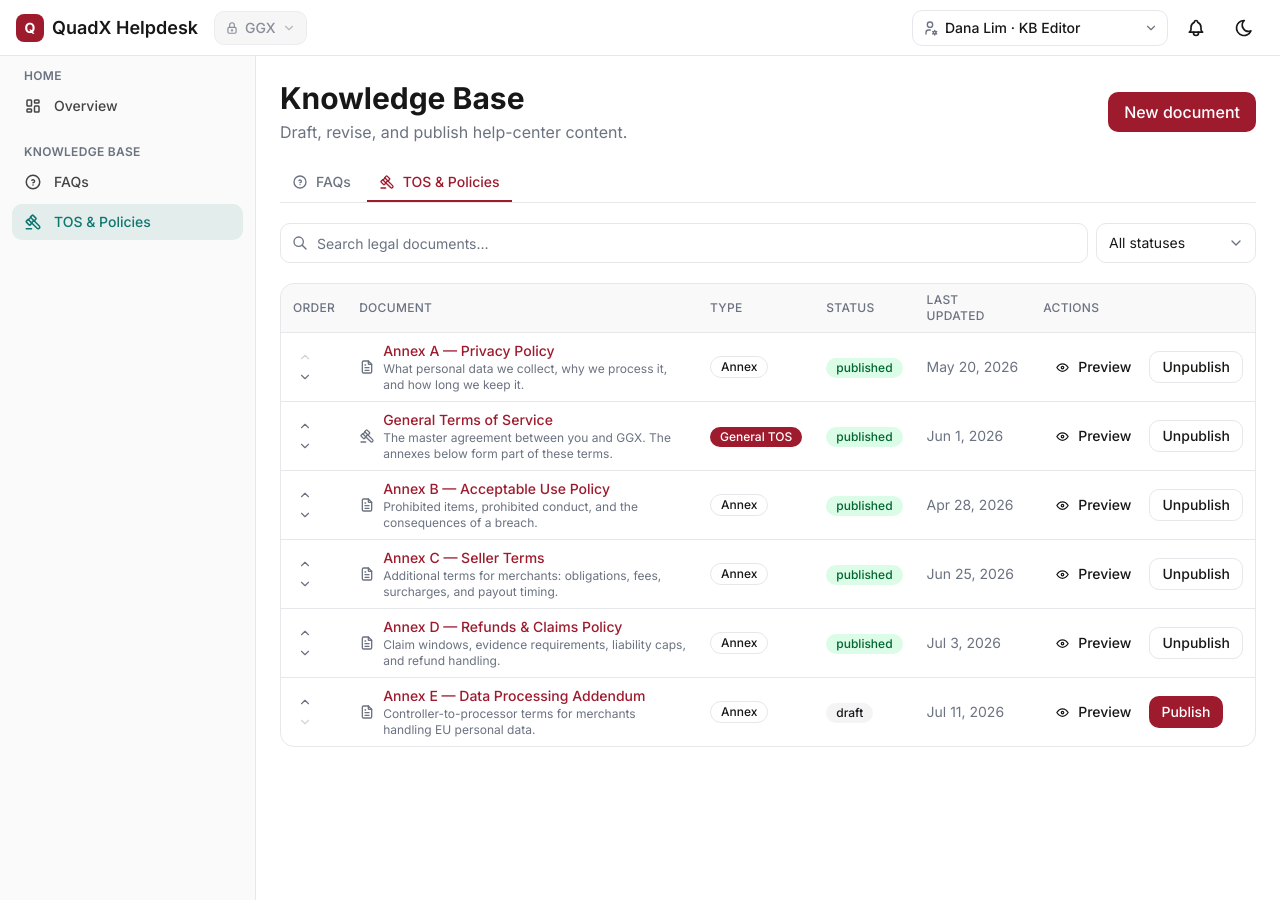
it: TOS & Policies administration › filters legal documents to drafts
Expected: the link "General Terms of Service" is shown, [383, 411, 553, 428]
Select "Draft" in the dropdown named "filter by status" at (1176, 243), box [1096, 223, 1256, 263]
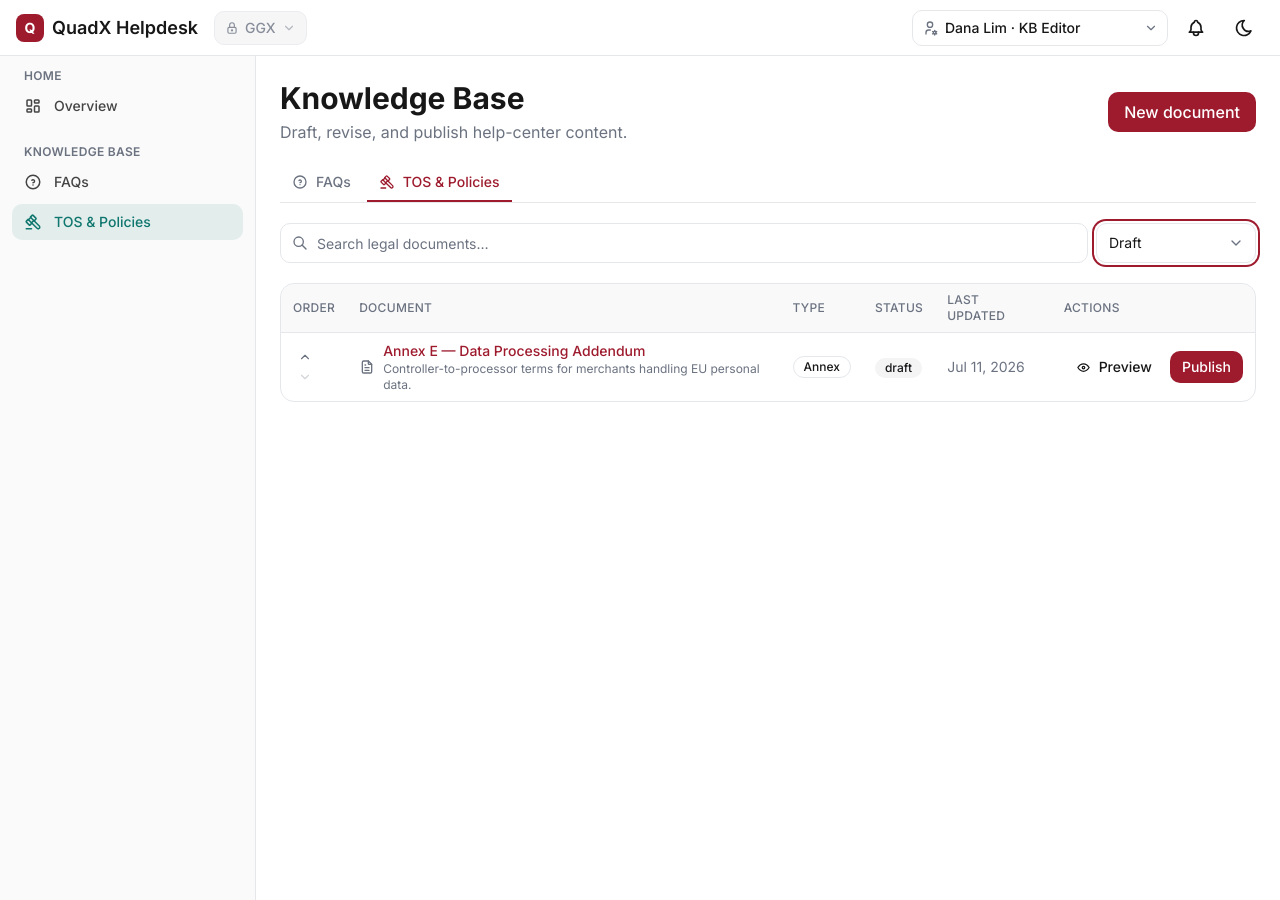
Expected: the link "Annex E — Data Processing Addendum" is shown, [383, 342, 646, 359]
Expected: the link "General Terms of Service" is gone
